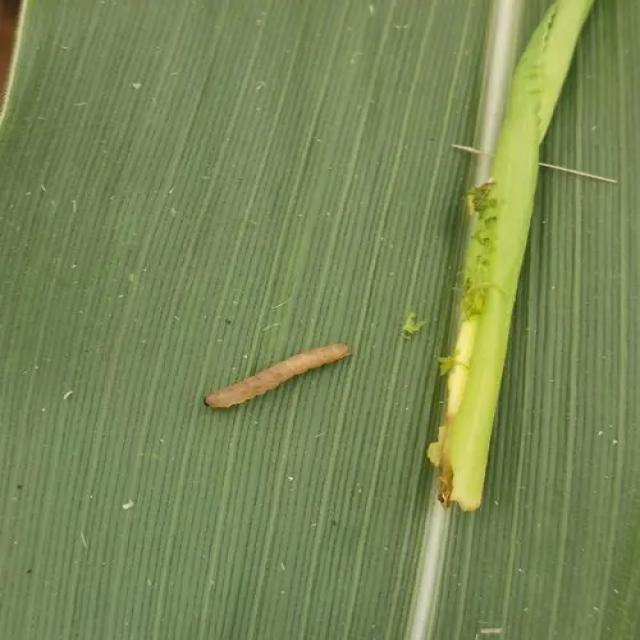pest: (212, 341, 352, 411)
